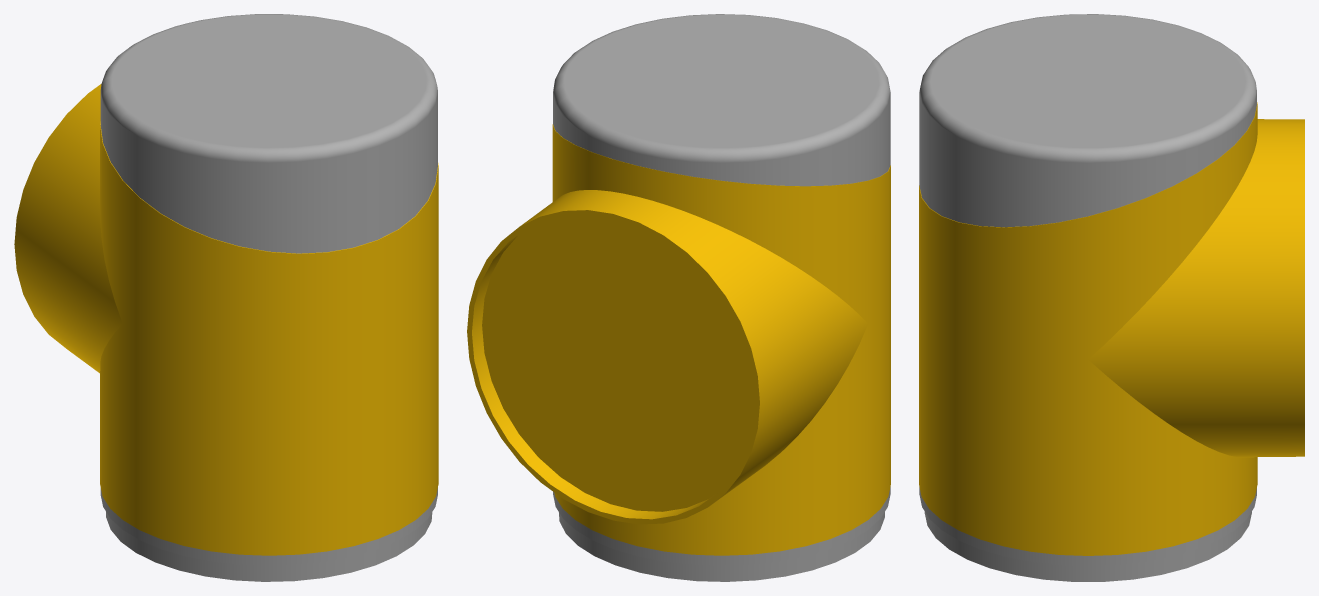
The picture shows the model from 3 angles, left to right: view 1: azimuth 30°, elevation 25°; view 2: azimuth 150°, elevation 25°; view 3: azimuth 270°, elevation 25°; orthographic projection.
Visible parts, largest first — view 1: NONE; view 2: NONE; view 3: NONE.
Part boxes in pixels (<box>): NONE: <box>14,14,438,581</box>; NONE: <box>467,14,890,581</box>; NONE: <box>919,14,1304,581</box>.
Size of the model in its own units: 0.15 by 0.211 by 0.171.
